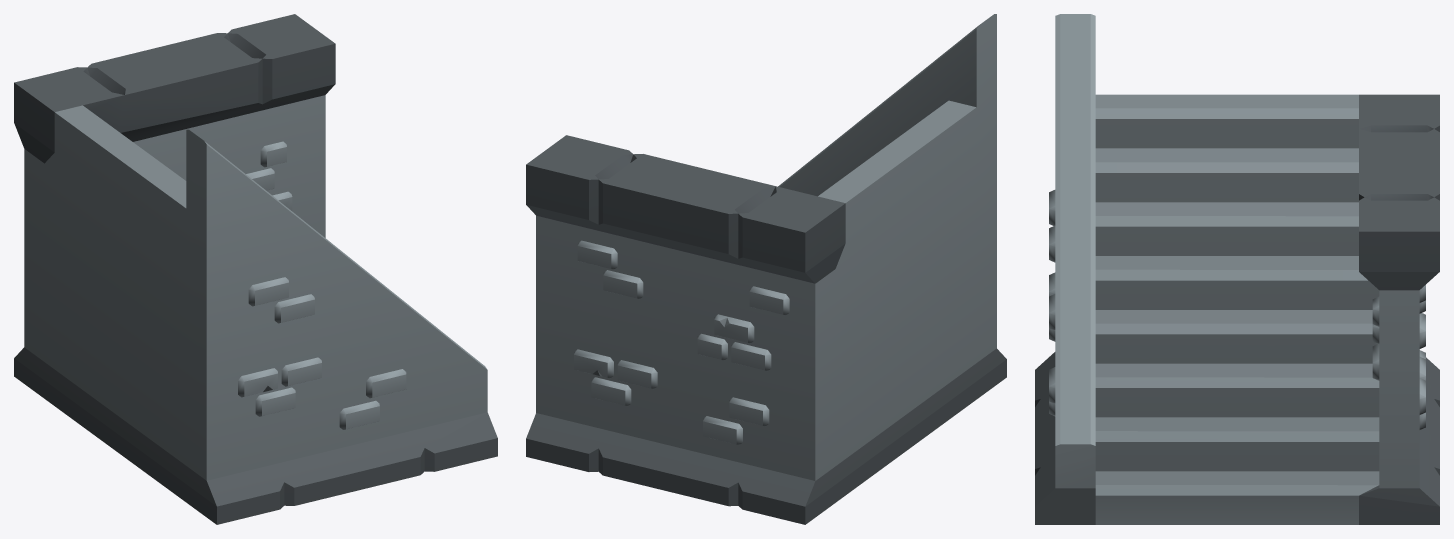
File: stairs_wall_left.glb
The picture shows the model from 3 angles, left to right: view 1: azimuth 30°, elevation 25°; view 2: azimuth 150°, elevation 25°; view 3: azimuth 270°, elevation 25°; orthographic projection.
Parts seen in each view (by area): view 1: stairs_wall_left; view 2: stairs_wall_left; view 3: stairs_wall_left.
Boxes of the visible parts, <box> form: stairs_wall_left: <box>14,14,497,524</box>; stairs_wall_left: <box>526,14,1006,524</box>; stairs_wall_left: <box>1035,14,1439,524</box>.
Bounding box in the file's own units: 2 × 2.55 × 2.5.
1 material, 1 textured.
